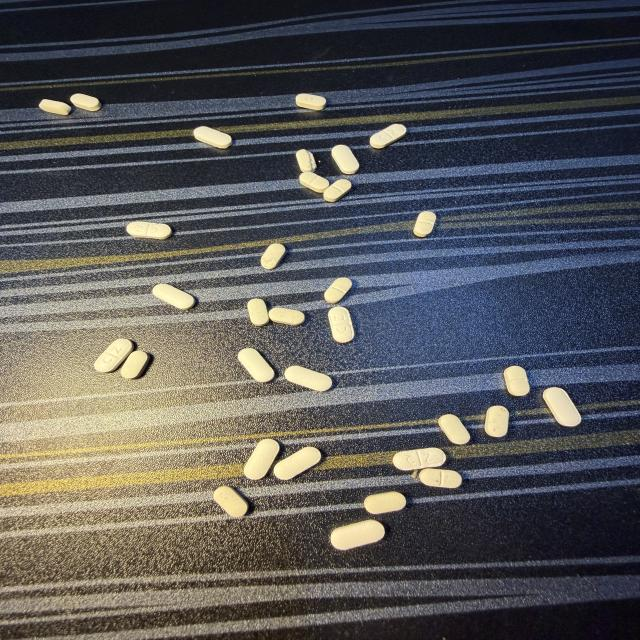pill: (331, 520, 384, 550), (274, 447, 321, 480), (543, 387, 581, 426), (244, 439, 279, 479), (95, 339, 133, 372), (238, 348, 274, 382), (285, 366, 332, 391), (393, 448, 446, 470), (152, 284, 195, 310), (214, 487, 248, 517), (328, 307, 354, 343), (364, 492, 406, 514), (439, 415, 470, 444), (370, 124, 406, 148), (194, 126, 232, 148), (419, 469, 462, 488), (121, 351, 149, 379), (332, 145, 359, 174), (127, 222, 172, 239), (504, 366, 529, 396), (485, 406, 508, 437), (325, 278, 352, 304), (323, 179, 351, 202), (269, 308, 304, 326), (261, 243, 285, 269), (413, 211, 436, 237), (300, 172, 329, 192), (248, 299, 269, 326), (70, 94, 101, 111), (39, 99, 71, 115), (296, 94, 326, 110), (296, 149, 316, 172)
